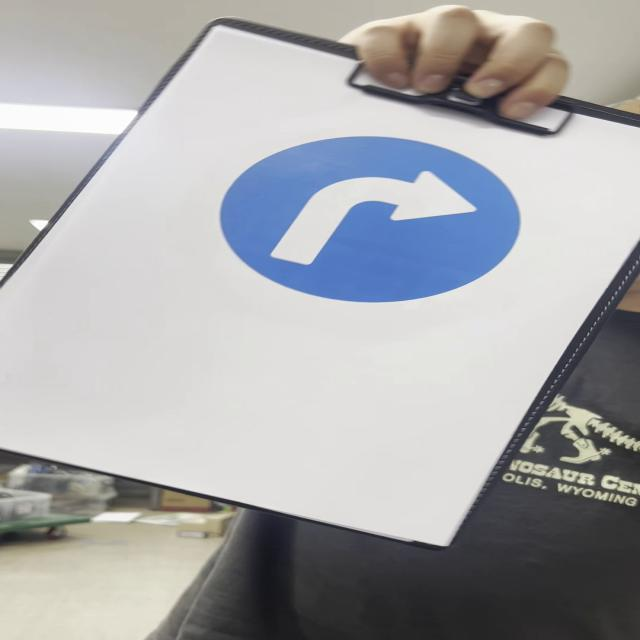right: (222, 139, 517, 305)
